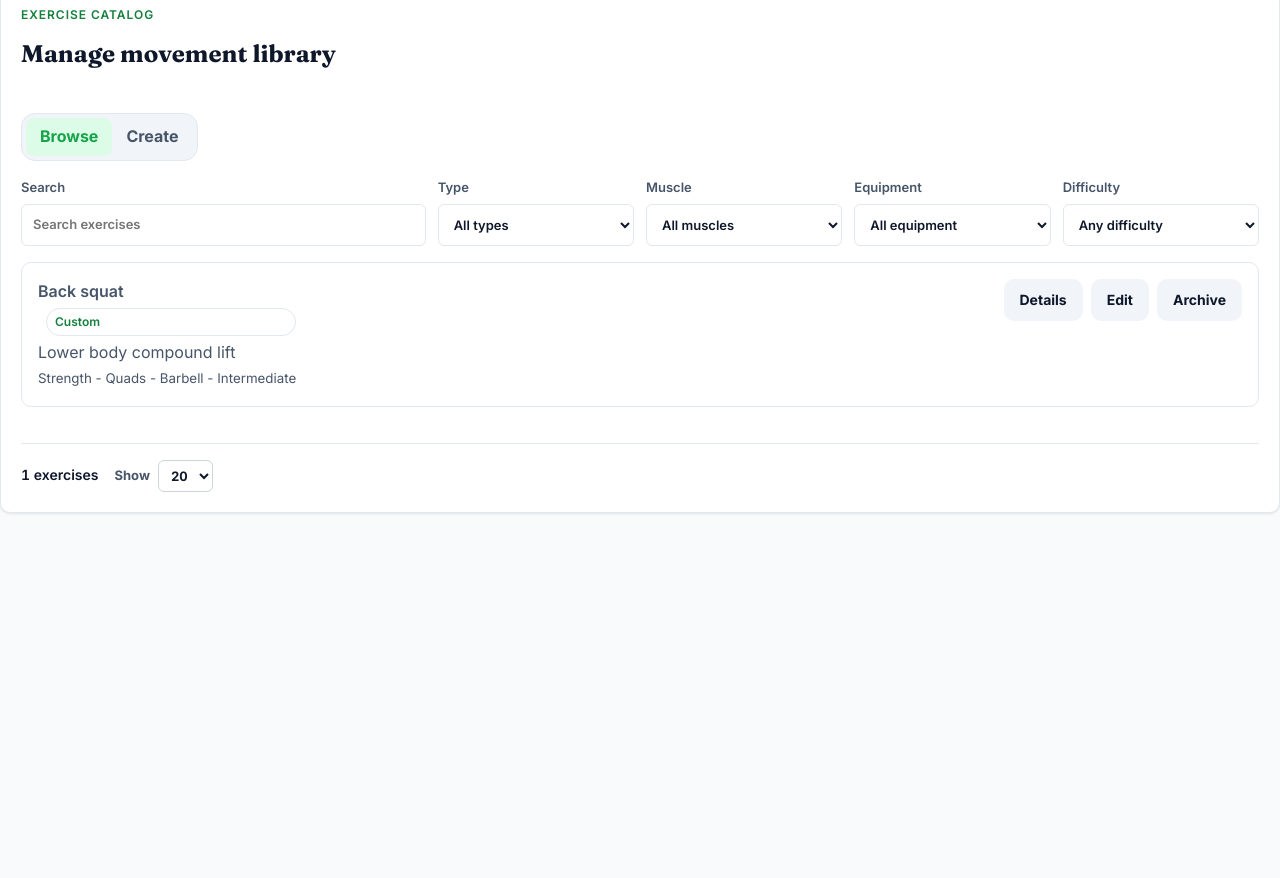
Test: ExerciseLibraryComponent › opens the edit form from the browse list and keeps create hidden
What coordinates should you click on to do the following:
click the button "Edit"
I would click on:
 (1120, 300)
Its box is x1=1091 y1=279 x2=1149 y2=321.
(page scrolled)
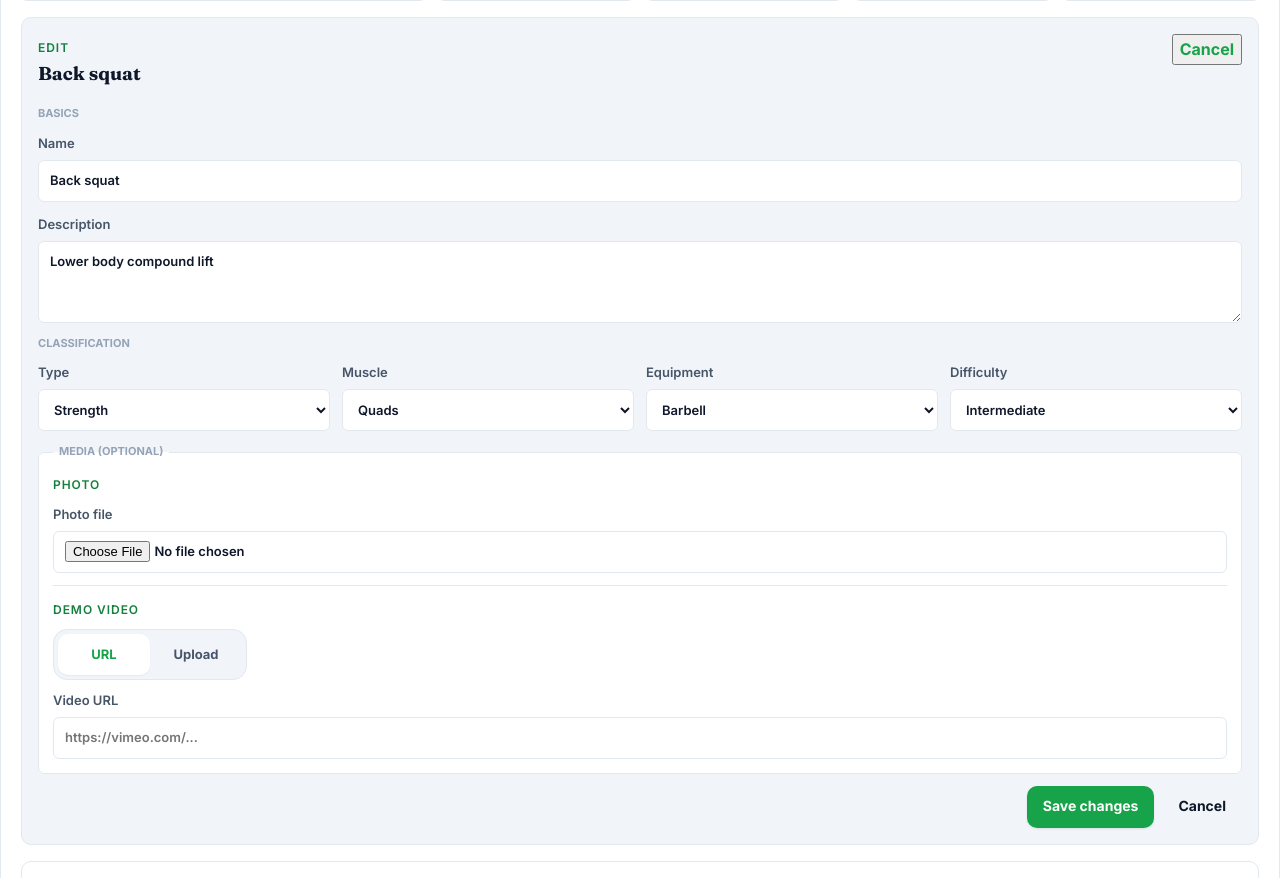
Result: the element named "Edit custom exercise" is shown
Result: the text "Save changes" is shown at x1=1027 y1=786 x2=1154 y2=828
